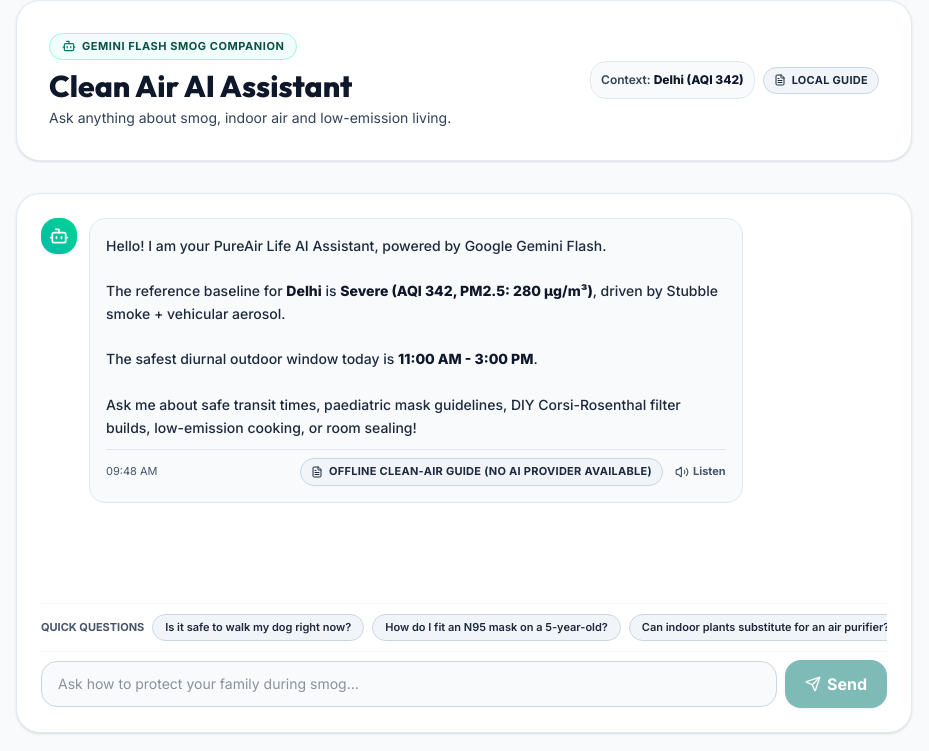
Test: Assistant read-aloud › speaks the answer and stops again on a second press
Click the button with aria-label "read this answer aloud" at (700, 472), box top-left (675, 463), bottom-right (726, 481)
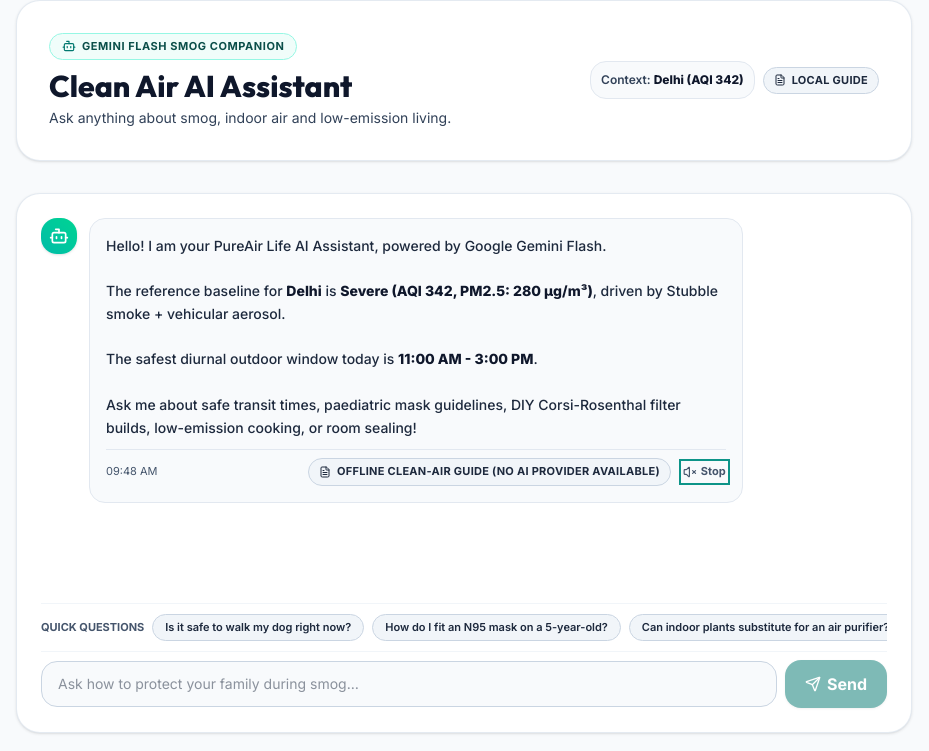
Expected: the button with aria-label "read this answer aloud" reads "Stop"
// A second press cancels the running utterance and resets the control.
Click the button with aria-label "read this answer aloud" at (704, 472), box top-left (683, 463), bottom-right (726, 481)
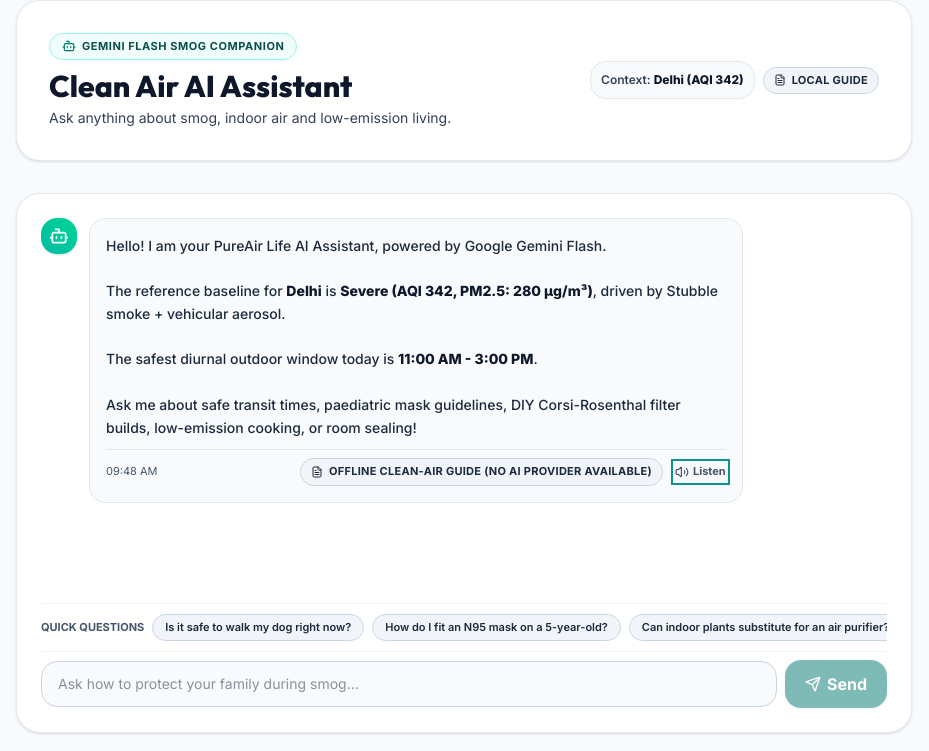
Expected: the button with aria-label "read this answer aloud" reads "Listen", top-left (675, 463), bottom-right (726, 481)
